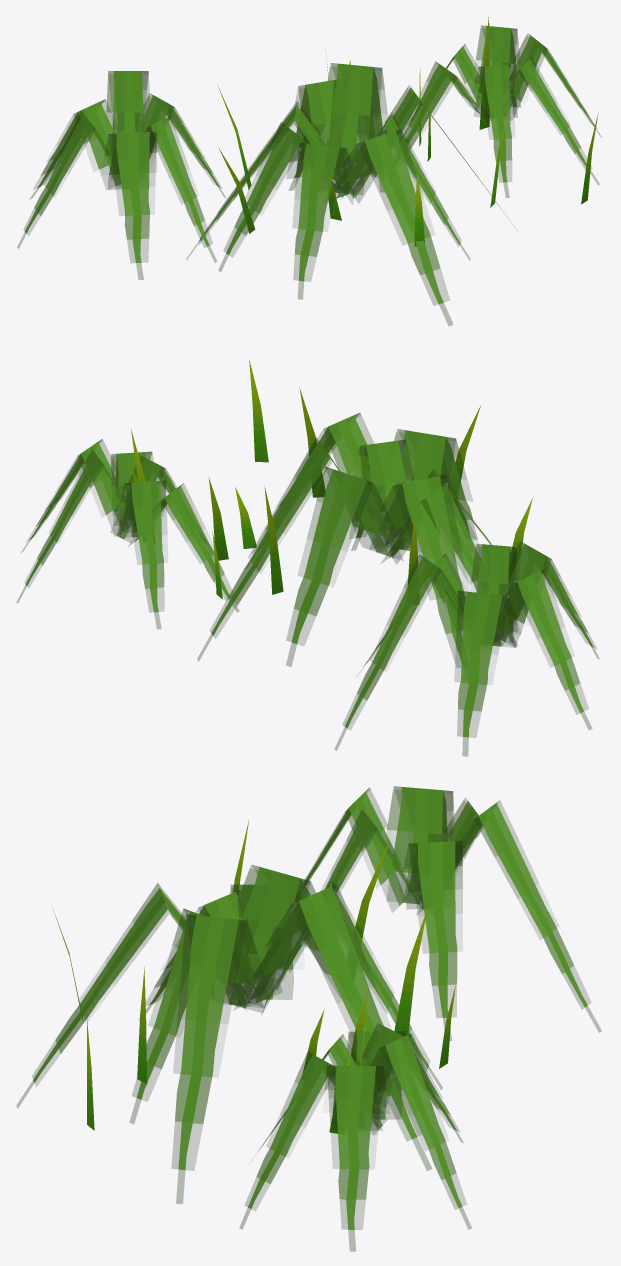
File: fern_bank.glb
3 views of the same model, one above another, from view 1: azimuth 30°, elevation 25°; view 2: azimuth 150°, elevation 25°; view 3: azimuth 270°, elevation 25° (orthographic). The views are drawn at different scales.
Parts seen in each view (by area): view 1: fern_bank_Fern_Frond, fern_bank_Grass_Blade; view 2: fern_bank_Fern_Frond, fern_bank_Grass_Blade; view 3: fern_bank_Fern_Frond, fern_bank_Grass_Blade.
Part boxes in pixels (box(x1,y1,x2,y2)): fern_bank_Fern_Frond: box(17, 25, 601, 325); fern_bank_Grass_Blade: box(217, 17, 598, 246); fern_bank_Fern_Frond: box(17, 412, 599, 756); fern_bank_Grass_Blade: box(130, 360, 532, 604); fern_bank_Fern_Frond: box(16, 786, 601, 1251); fern_bank_Grass_Blade: box(51, 819, 455, 1133).
Size of the model in its own units: 3.52 by 1.08 by 2.51.
2 materials, 2 textured.
